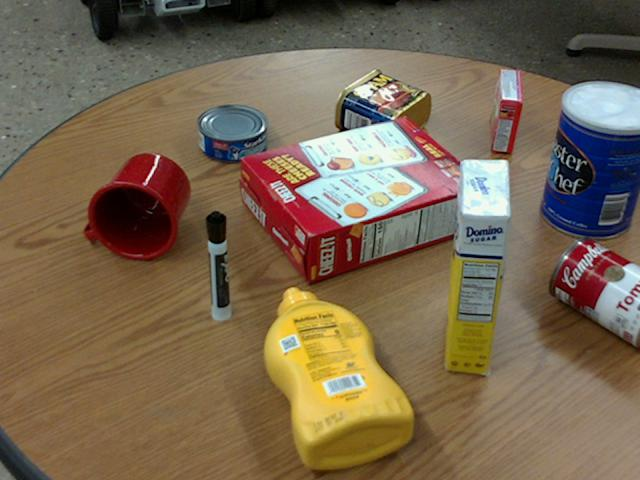cracker_box: (240, 117, 482, 283)
gelatin_box: (490, 69, 521, 152)
large_marker: (205, 209, 228, 320)
master_chef_can: (540, 82, 639, 239)
mug: (84, 152, 188, 259)
mustard_bottle: (263, 287, 413, 467)
potted_meat_can: (334, 69, 430, 145)
sugar_box: (445, 158, 509, 374)
tomato_soup_can: (549, 236, 639, 346)
tuna_fish_can: (197, 103, 266, 160)
